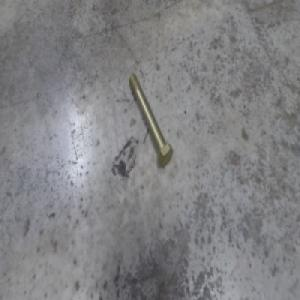Bolt: (132, 72, 176, 166)
